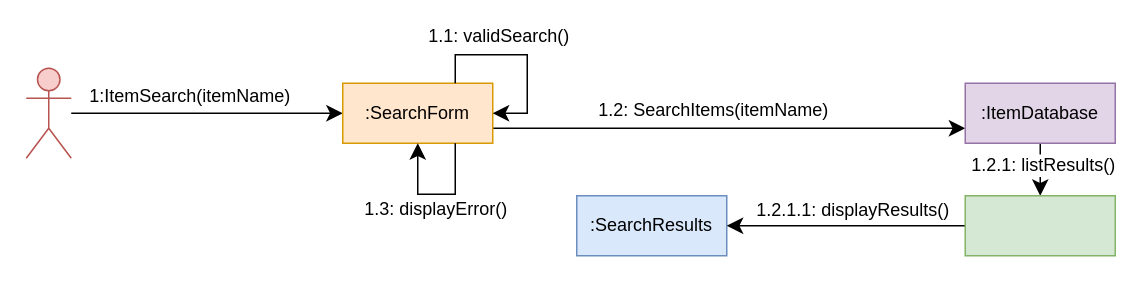
Image size: 1142x282. Some labels were removed from this diagram. The shapes that lost their labels are listed below. From the top down, each one's centre as x and y in pixels, then its label:
the point at 48,112: Actor
the point at 1039,225: :ResultList
